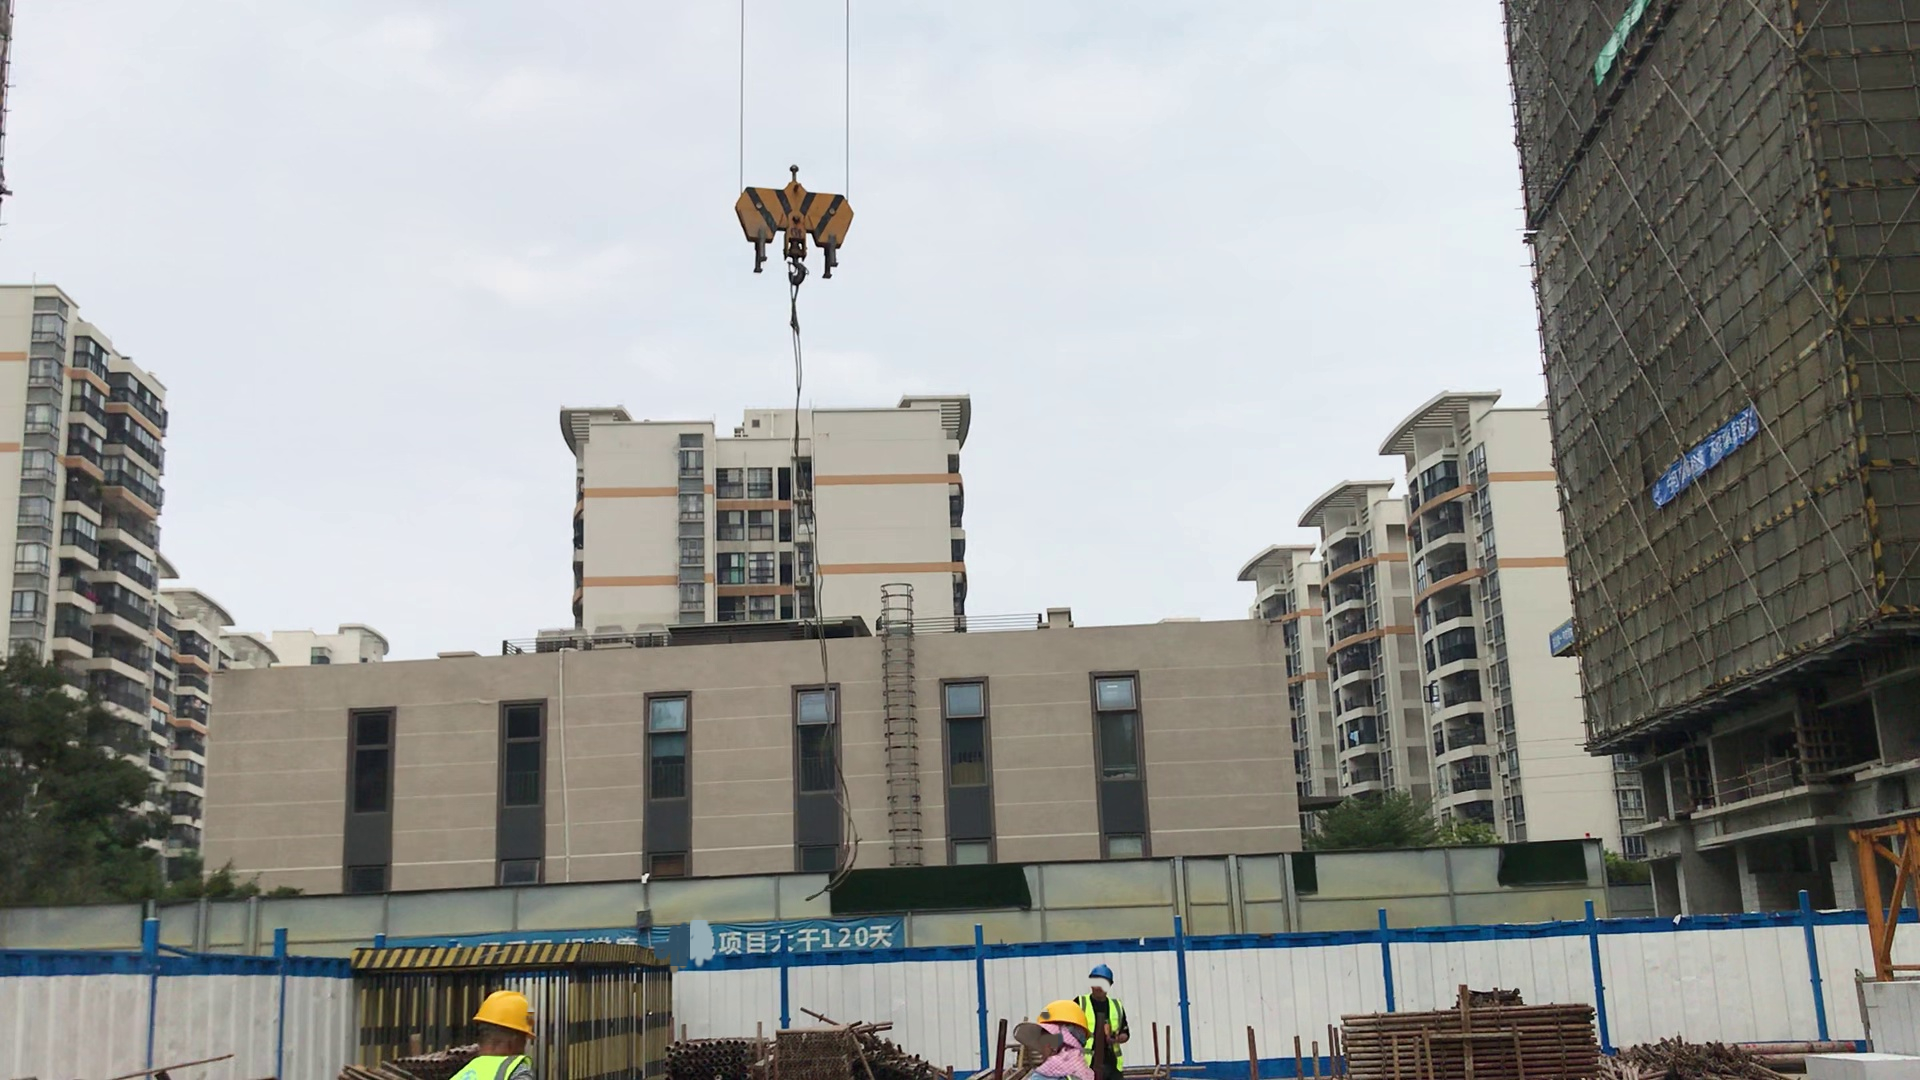helmet: (466, 987, 546, 1038), (1033, 991, 1107, 1041), (1082, 957, 1127, 991)
hook: (715, 156, 859, 288)
person: (443, 984, 548, 1080), (1068, 957, 1138, 1076), (1021, 989, 1091, 1080)
scaffold: (1341, 1007, 1623, 1080)
slogan: (694, 907, 908, 961)
vest: (449, 1049, 525, 1080), (1078, 993, 1129, 1038)
